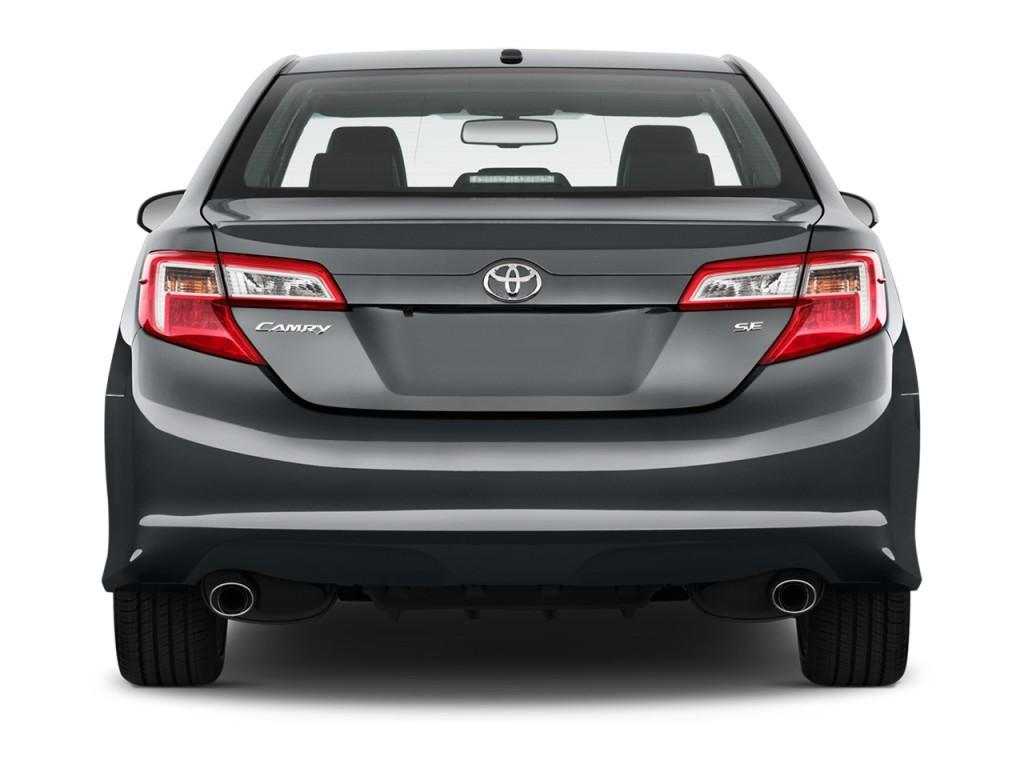Sedan: (100, 46, 923, 690)
